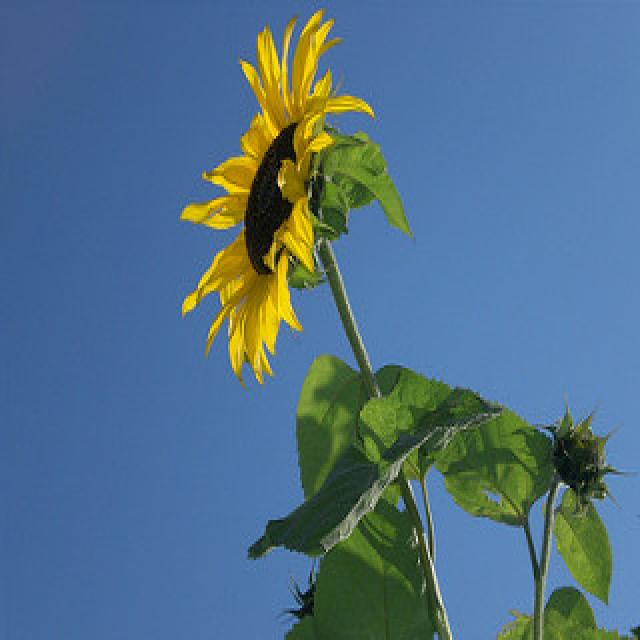sunflower: (167, 9, 351, 402)
